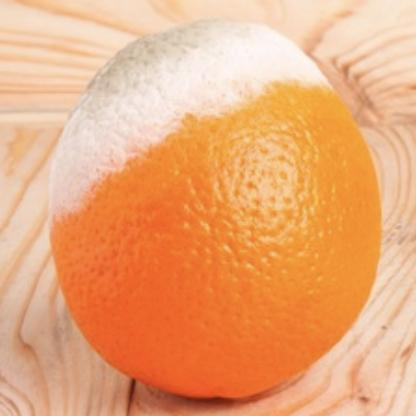rotten: (51, 18, 383, 399)
